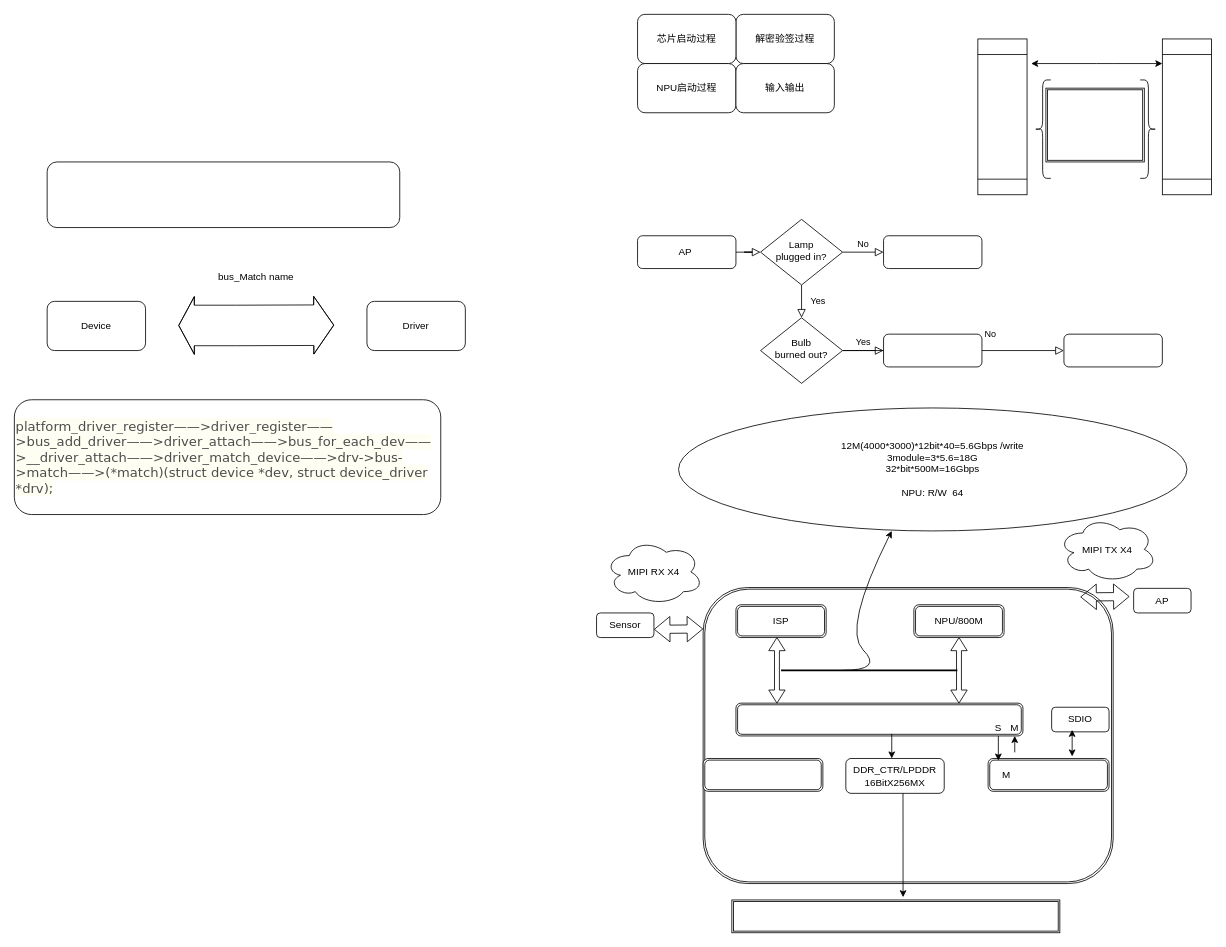
This 1226x947 diagram has some shape labels left out. The box of each missing label's shape, as (x1, y1, x2, y2) in pixels:
1: 解密，验签 2：模型解析 3：模型加载 4：配置设置NPU 5：输入输出: (1045, 87, 1144, 162)
AHB: (987, 758, 1109, 791)
APB: (702, 758, 823, 791)
AXI: (735, 702, 1023, 736)
DDR: (731, 899, 1060, 933)
Linux PCIE驱动程序模型: (46, 161, 400, 228)
Plug in lamp: (883, 235, 982, 269)
Repair Lamp: (1063, 333, 1162, 367)
Replace Bulb: (883, 333, 982, 367)
